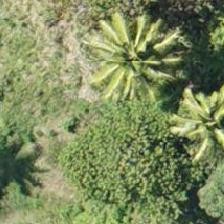coconut_tree: (84, 20, 174, 110), (163, 80, 223, 170)
